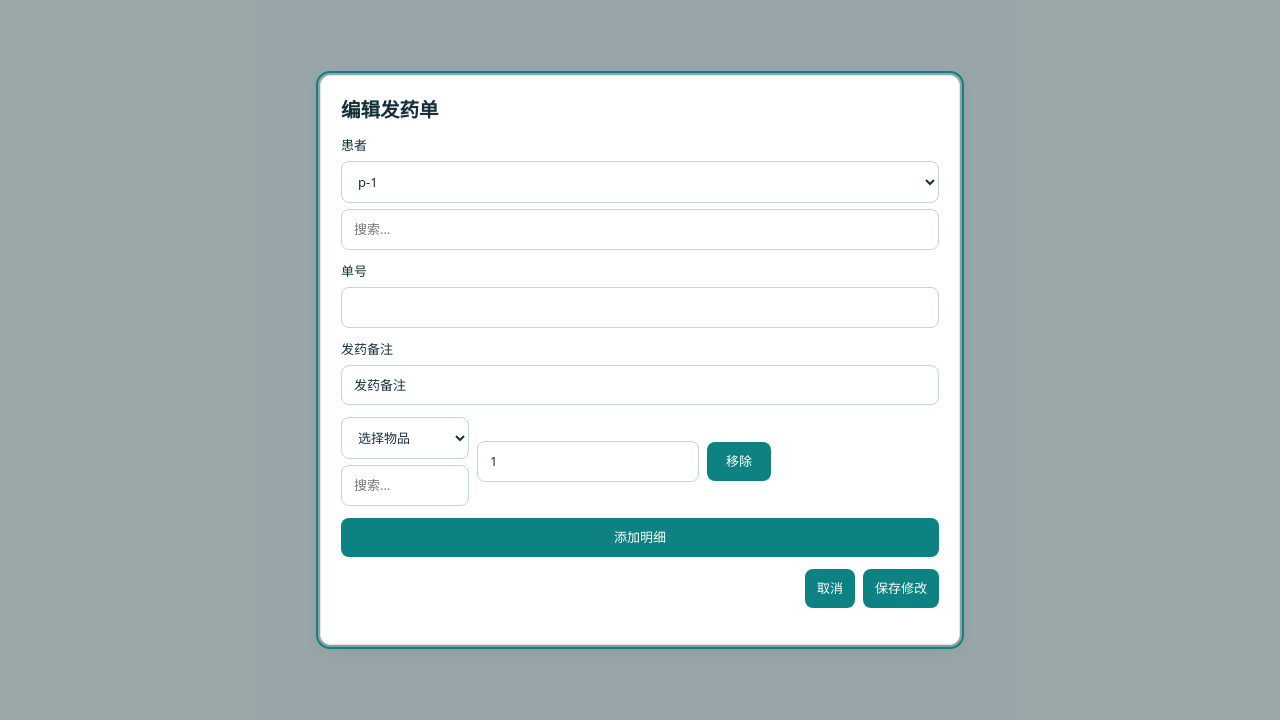
DispenseEditDialog › requires a patient, number and at least one valid item
Click the button "保存修改" at (901, 588), box [863,569,939,608]
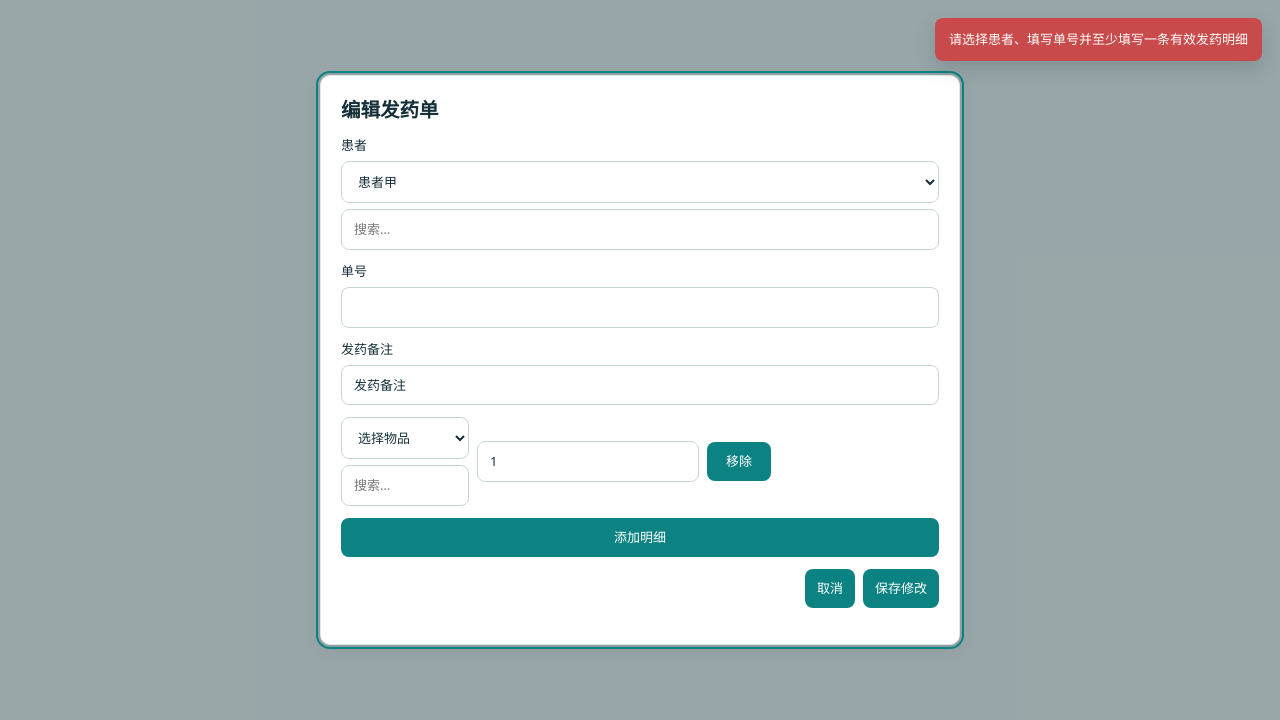
Result: the text "请选择患者、填写单号并至少填写一条有效发药明细" is shown at [935,18,1262,61]
